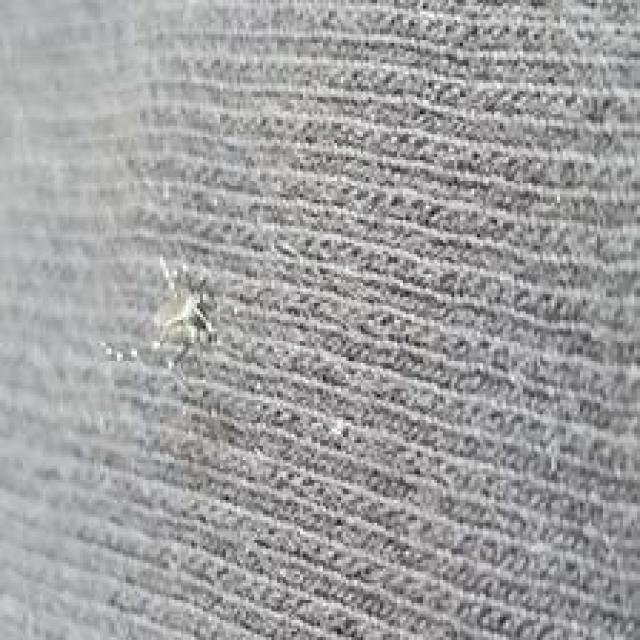Aedes albopictus: (149, 253, 220, 370)
